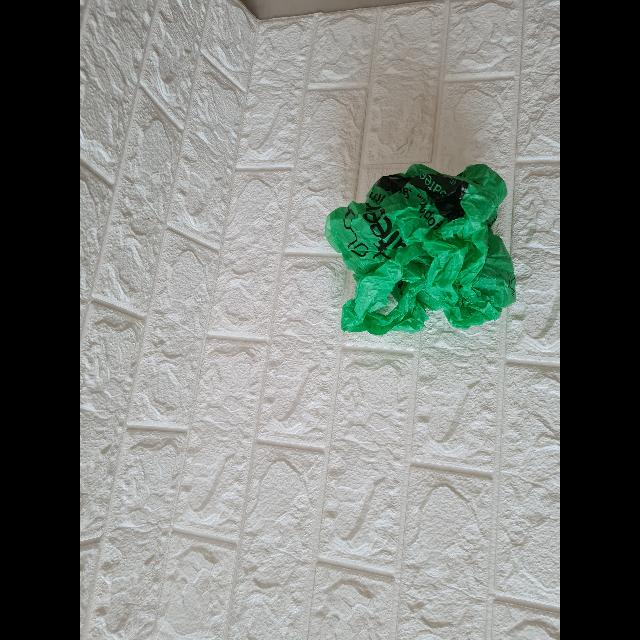plastic_bag: (323, 165, 523, 342)
